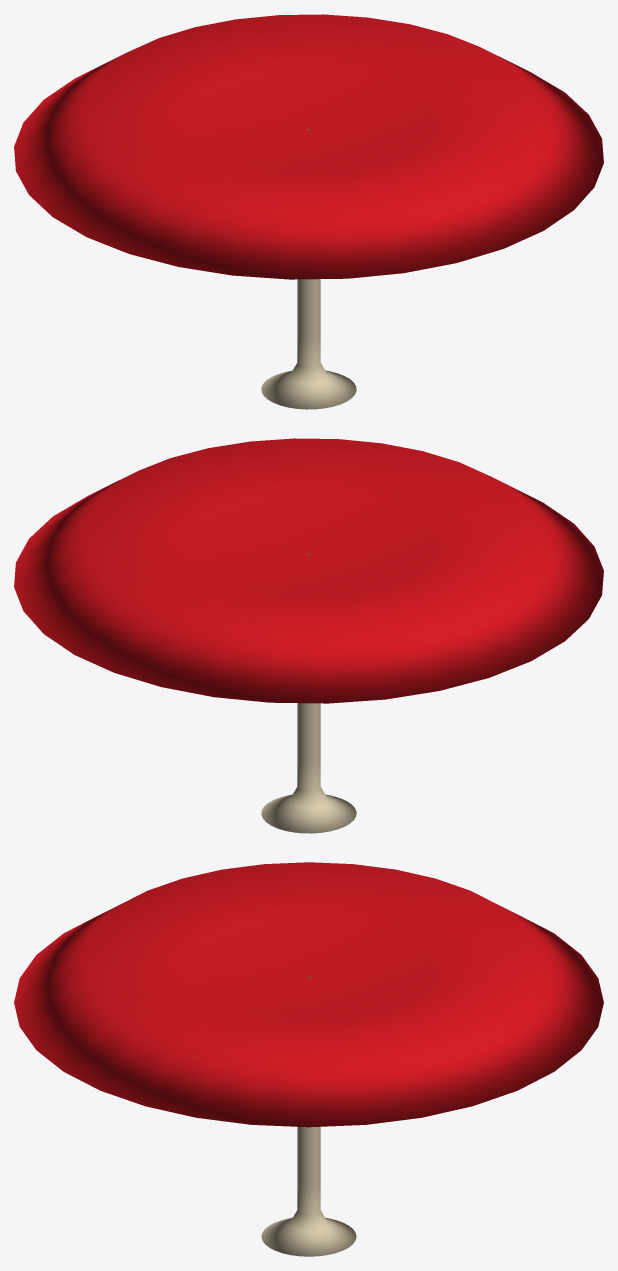
File: champi13.fbx
3 views of the same model, one above another, from view 1: azimuth 30°, elevation 25°; view 2: azimuth 150°, elevation 25°; view 3: azimuth 270°, elevation 25° (orthographic).
Parts seen in each view (by area): view 1: Cylinder; view 2: Cylinder; view 3: Cylinder.
Part boxes in pixels (left/top/right/bottom): Cylinder: left=14, top=14, right=603, bottom=409; Cylinder: left=14, top=438, right=603, bottom=833; Cylinder: left=14, top=862, right=603, bottom=1256.
Bounding box in the file's own units: 248 × 129 × 248.
